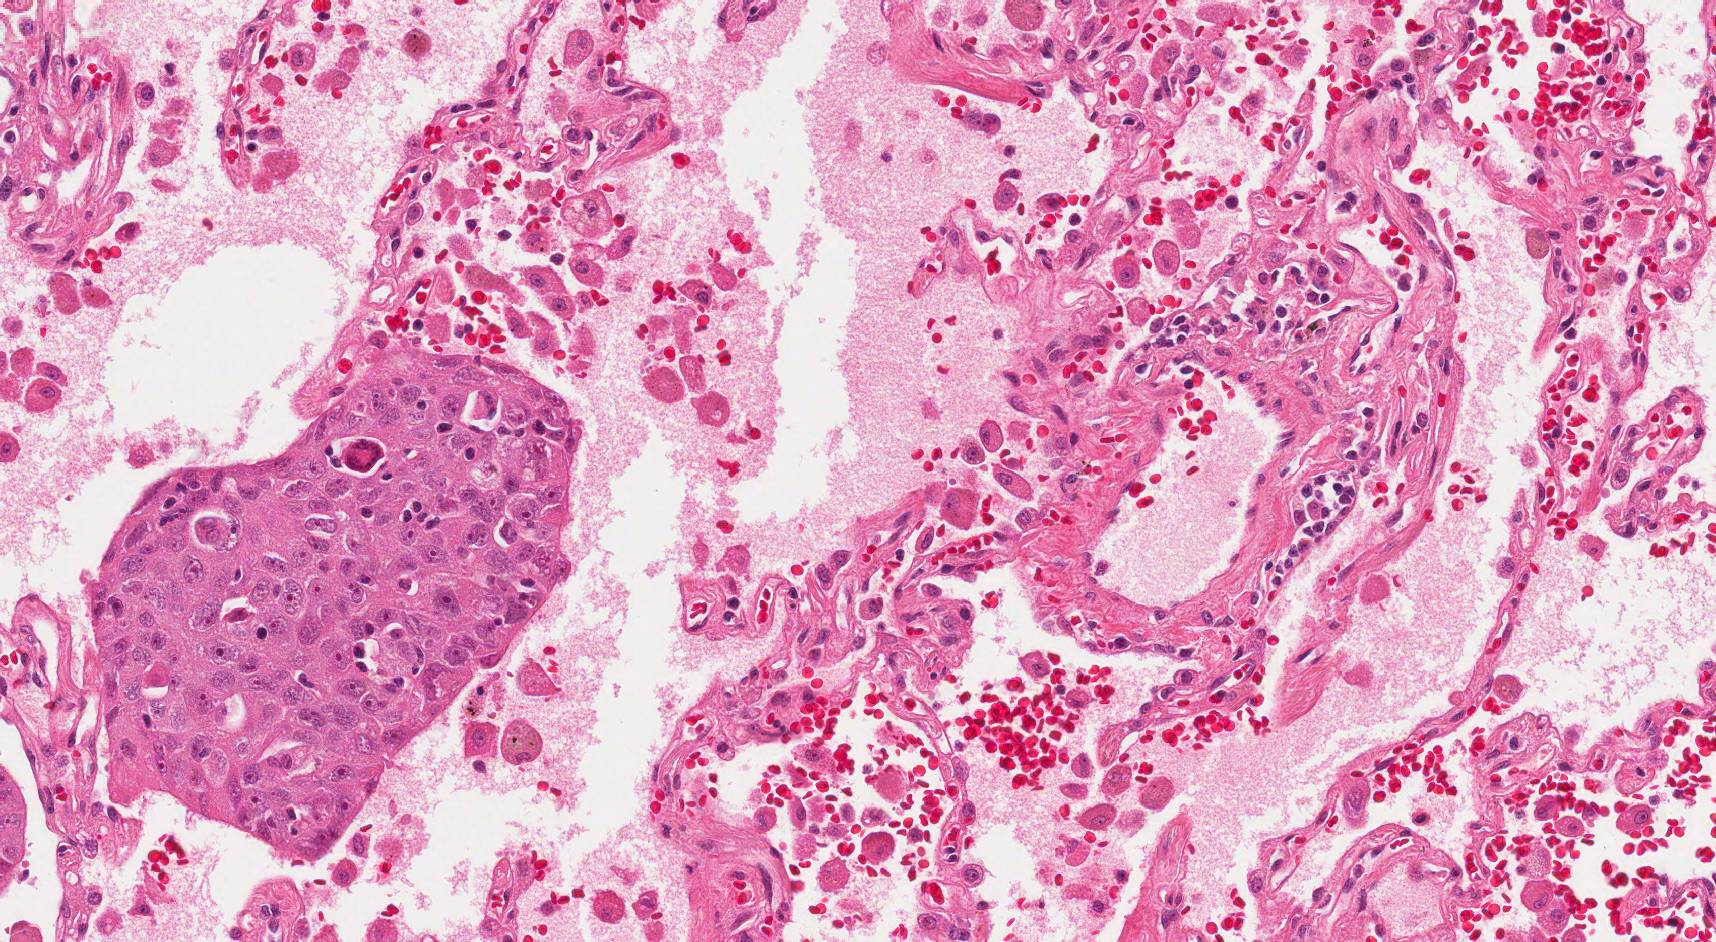stas: (95, 351, 583, 865)
